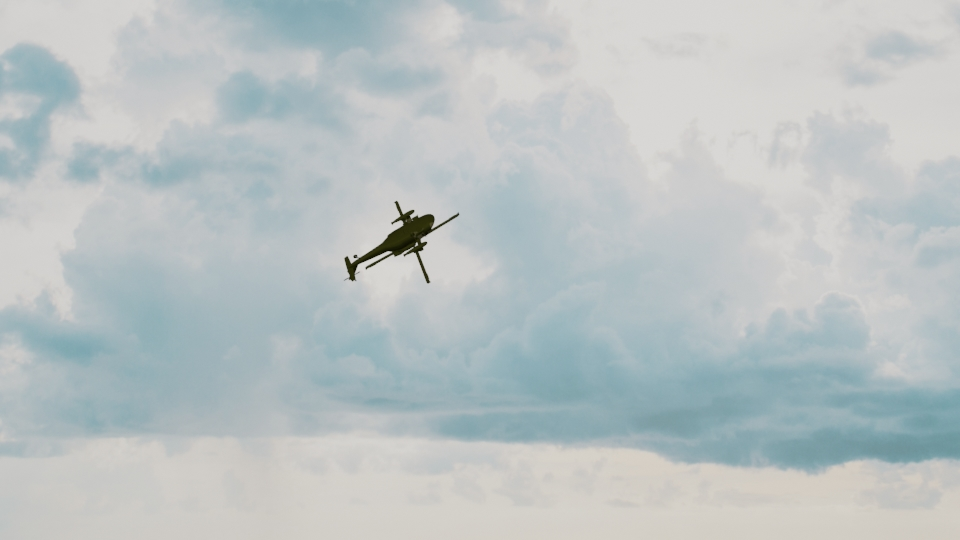heli: (344, 198, 461, 282)
